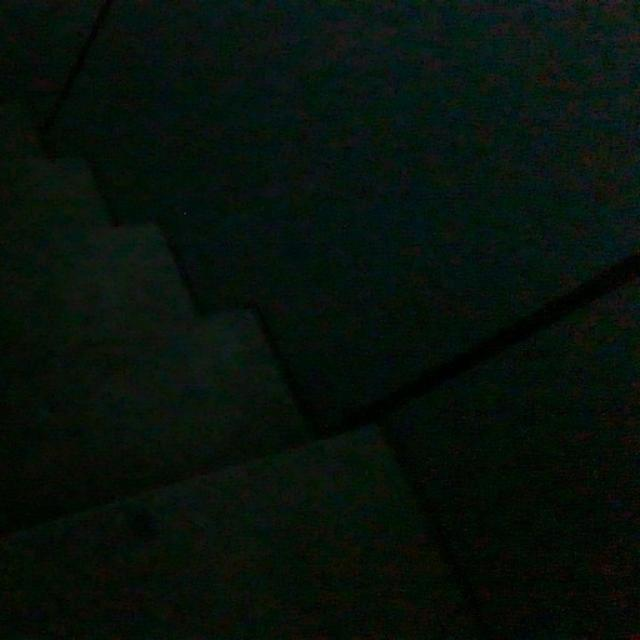stair: (0, 65, 397, 612)
